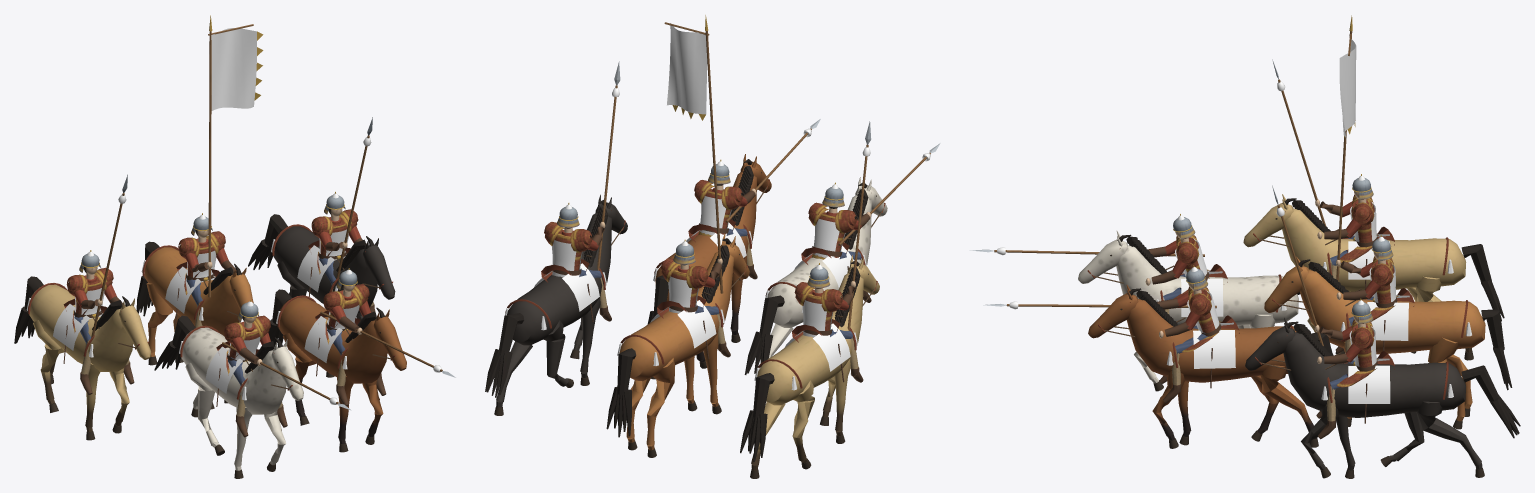
The model's file is Unit_Cavalry.glb.
The picture shows the model from 3 angles, left to right: view 1: azimuth 30°, elevation 25°; view 2: azimuth 150°, elevation 25°; view 3: azimuth 270°, elevation 25°; orthographic projection. The views are drawn at different scales.
Parts seen in each view (by area): view 1: Unit_Cavalry; view 2: Unit_Cavalry; view 3: Unit_Cavalry.
Boxes of the visible parts, box(x1,y1,x2,y2) form: Unit_Cavalry: box(14, 15, 455, 478); Unit_Cavalry: box(485, 15, 940, 478); Unit_Cavalry: box(969, 15, 1520, 478).
Size of the model in its own units: 3.63 by 4.59 by 5.68.
Materials: 2 (1 with a texture image).
